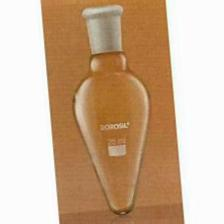Pear shaped flask: (63, 0, 161, 217)
